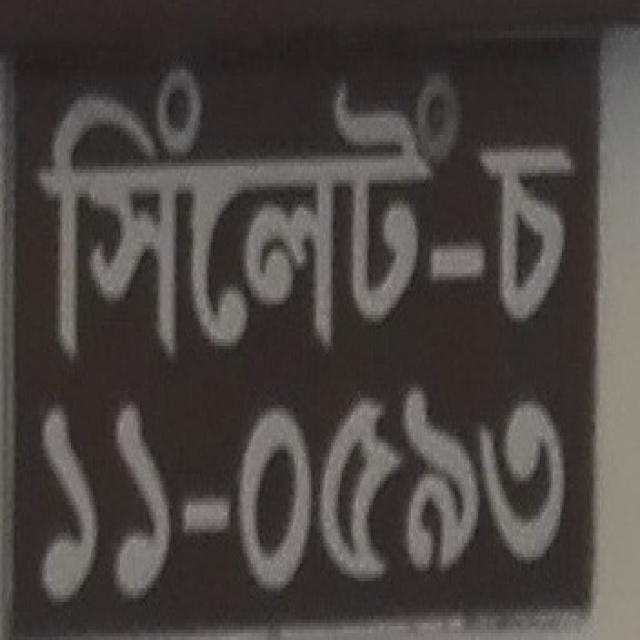cng: (35, 65, 575, 363)
numberplate: (2, 4, 623, 635)
